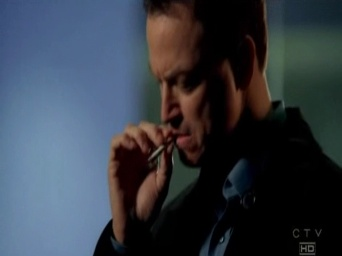smoke: (147, 135, 175, 163)
